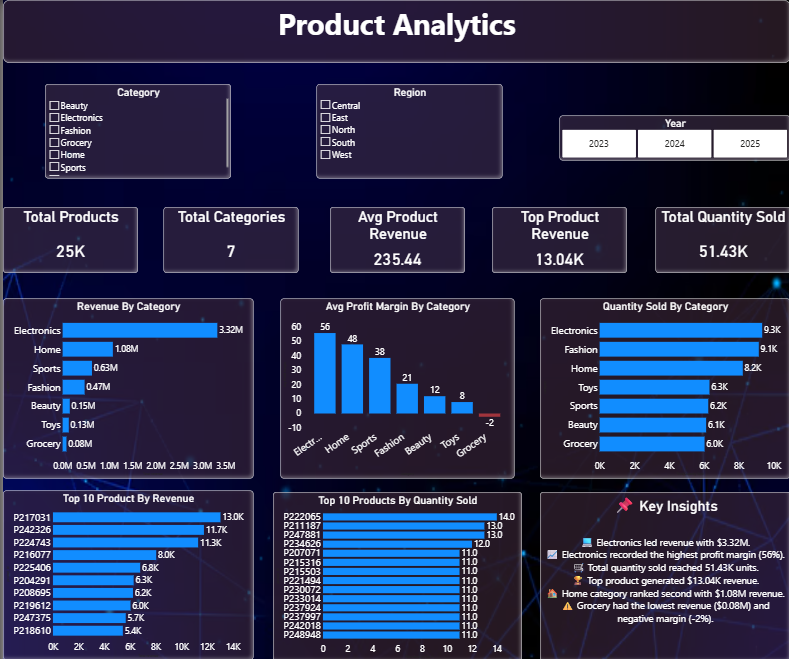

The page's visual inventory and layout, read from the dashboard file:
{"tool":"powerbi","page":{"name":"Page 3","canvas":[1280,3000],"ordinal":2},"visuals":[{"type":"textbox","box":[0,0,3500,280],"z":0},{"type":"card","title":"Total Products","fields":{"Values":["ecommerce.Total Products"]},"box":[0,920,600,293.3],"z":1},{"type":"card","title":"Total Categories","fields":{"Values":["ecommerce.total categories"]},"box":[713.3,920,600,293.3],"z":2},{"type":"card","title":"Avg Product Revenue","fields":{"Values":["ecommerce.Avg Product Revenue"]},"box":[1453.3,920,600,293.3],"z":3},{"type":"card","title":"Top Product Revenue","fields":{"Values":["ecommerce.Top Product Revenue"]},"box":[2173.3,920,600,293.3],"z":4},{"type":"card","title":"Total Quantity Sold","fields":{"Values":["ecommerce.Avg Quantity Sold"]},"box":[2900,920,600,293.3],"z":5},{"type":"slicer","title":"Category","fields":{"Values":["ecommerce.category"]},"box":[186.7,373.3,826.7,420],"z":6},{"type":"slicer","title":"Region","fields":{"Values":["ecommerce.region"]},"box":[1393.3,373.3,826.7,420],"z":7},{"type":"advancedSlicerVisual","fields":{"Values":["ecommerce.order_date.Variation.Date Hierarchy.Year"]},"box":[2473.3,513.3,1026.7,200],"z":8},{"type":"clusteredBarChart","title":"Revenue By Category","fields":{"Category":["ecommerce.category"],"Y":["ecommerce.Total revenue"]},"box":[0,1326.7,1113.3,800],"z":9},{"type":"clusteredColumnChart","title":"Avg Profit Margin By Category","fields":{"Category":["ecommerce.category"],"Y":["ecommerce.Avg Profit Margin"]},"box":[1233.3,1326.7,1040,800],"z":10},{"type":"clusteredBarChart","title":"Quantity Sold By Category","fields":{"Category":["ecommerce.category"],"Y":["ecommerce.Total Quantity Sold"]},"box":[2386.7,1326.7,1113.3,800],"z":11},{"type":"clusteredBarChart","title":"Top 10  Product By Revenue","fields":{"Category":["ecommerce.product_id"],"Y":["ecommerce.Total revenue"]},"box":[0,2180,1113.3,753.3],"z":12},{"type":"clusteredBarChart","title":"Top 10 Products By Quantity Sold","fields":{"Category":["ecommerce.product_id"],"Y":["ecommerce.Total Quantity Sold"]},"box":[1200,2186.7,1106.7,753.3],"z":13},{"type":"textbox","title":"📌 Key Insights","box":[2386.7,2186.7,1113.3,753.3],"z":14}]}

Visuals, with their boxes on the page's 1280x3000 design canvas (x1, y1, x2, y2). These are canvas units, not pixel positions in the 789x659 screenshot, which may show the page scaled, cropped or inside an application window:
textbox: Rect(0, 0, 3500, 280)
"Total Products" card: Rect(0, 920, 600, 1213)
"Total Categories" card: Rect(713, 920, 1313, 1213)
"Avg Product Revenue" card: Rect(1453, 920, 2053, 1213)
"Top Product Revenue" card: Rect(2173, 920, 2773, 1213)
"Total Quantity Sold" card: Rect(2900, 920, 3500, 1213)
"Category" slicer: Rect(187, 373, 1013, 793)
"Region" slicer: Rect(1393, 373, 2220, 793)
advancedSlicerVisual - ecommerce.order_date.Variation.Date Hierarchy.Year: Rect(2473, 513, 3500, 713)
"Revenue By Category" clusteredBarChart: Rect(0, 1327, 1113, 2127)
"Avg Profit Margin By Category" clusteredColumnChart: Rect(1233, 1327, 2273, 2127)
"Quantity Sold By Category" clusteredBarChart: Rect(2387, 1327, 3500, 2127)
"Top 10  Product By Revenue" clusteredBarChart: Rect(0, 2180, 1113, 2933)
"Top 10 Products By Quantity Sold" clusteredBarChart: Rect(1200, 2187, 2307, 2940)
"📌 Key Insights" textbox: Rect(2387, 2187, 3500, 2940)
